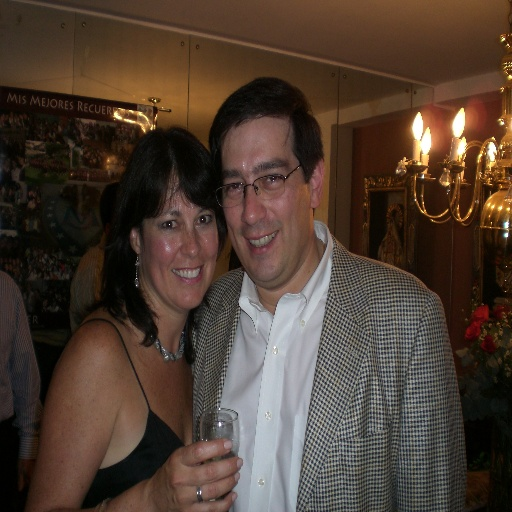hand: (144, 438, 249, 503), (18, 462, 36, 498)
